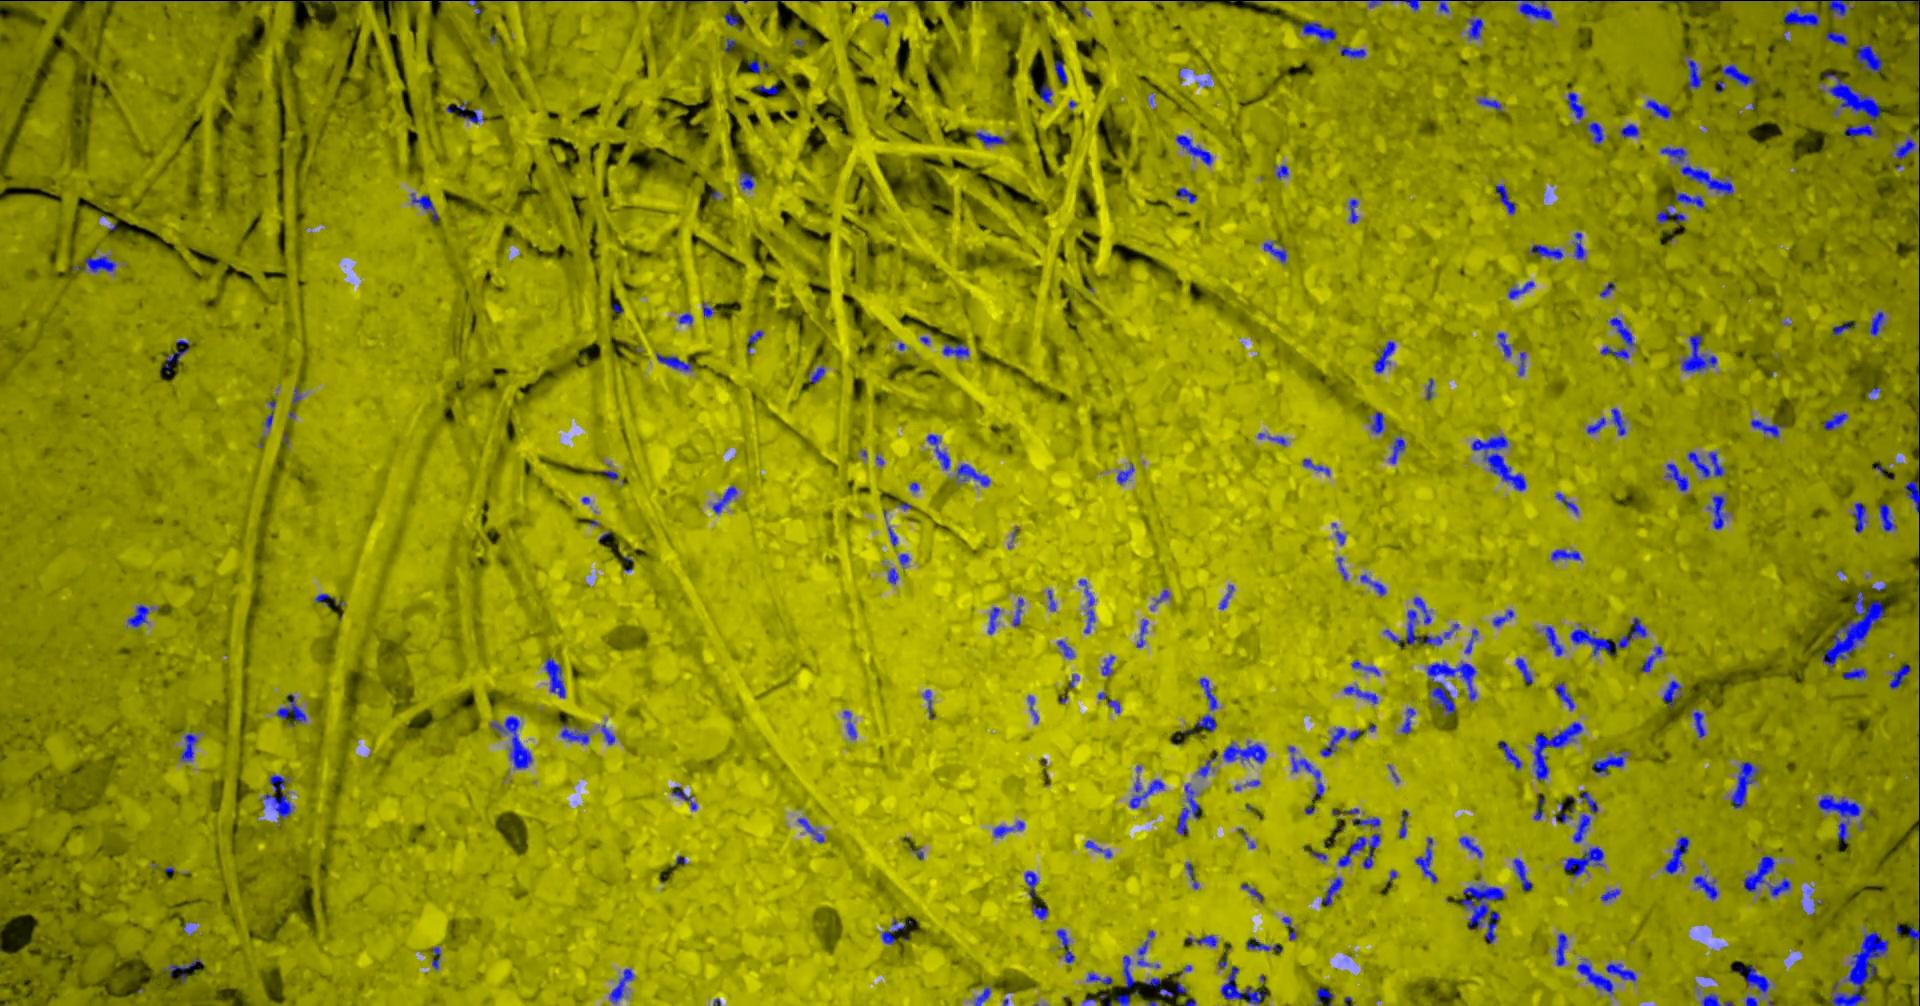ant: (1660, 146, 1733, 196), (1470, 434, 1525, 490), (1531, 721, 1582, 780), (1570, 617, 1646, 655), (1425, 662, 1476, 714), (1823, 72, 1879, 119), (1406, 596, 1458, 644), (490, 715, 532, 768), (1817, 794, 1860, 843), (1743, 855, 1790, 895), (1288, 746, 1323, 796), (1220, 967, 1263, 1005), (1337, 833, 1380, 868), (1600, 318, 1636, 358), (263, 774, 293, 819), (1730, 761, 1757, 808), (1681, 334, 1716, 372), (1572, 791, 1597, 842), (1576, 958, 1611, 993), (1175, 782, 1199, 835), (1563, 846, 1603, 876), (1319, 727, 1359, 756), (1129, 777, 1164, 808), (1733, 965, 1769, 996), (1175, 135, 1211, 164), (163, 958, 203, 983), (1688, 451, 1724, 478), (1663, 836, 1689, 874), (1222, 741, 1266, 762), (1415, 837, 1436, 882), (1078, 579, 1095, 633), (543, 657, 565, 697), (276, 694, 306, 721), (610, 968, 632, 1005), (1719, 64, 1757, 85), (1855, 43, 1883, 72), (164, 339, 188, 372), (1302, 22, 1336, 44), (926, 434, 949, 469), (1591, 751, 1625, 774), (410, 193, 438, 221), (956, 464, 989, 486), (1516, 0, 1552, 20), (1373, 340, 1394, 373), (1497, 741, 1521, 770), (655, 352, 692, 371), (71, 255, 116, 271), (1750, 418, 1785, 437), (797, 817, 824, 842), (712, 485, 737, 513), (1782, 9, 1818, 27), (1665, 464, 1688, 492), (1321, 876, 1342, 906), (1197, 677, 1217, 710), (1512, 857, 1531, 890), (1542, 625, 1562, 655), (670, 786, 696, 810), (1693, 875, 1718, 899), (1057, 929, 1074, 963), (1843, 122, 1879, 138), (1707, 495, 1724, 528), (1639, 645, 1662, 671), (1495, 185, 1515, 213), (1554, 682, 1575, 710), (560, 723, 588, 743), (127, 605, 151, 627), (1343, 686, 1377, 702), (1815, 0, 1850, 15), (456, 102, 483, 122), (1359, 574, 1385, 594), (1662, 680, 1683, 706), (1196, 751, 1217, 777), (1605, 963, 1636, 981), (1554, 492, 1577, 514), (881, 920, 904, 942), (1644, 99, 1671, 118), (1507, 279, 1534, 298), (1674, 192, 1704, 208), (1903, 480, 1919, 513), (180, 730, 197, 761), (993, 821, 1023, 837), (1246, 937, 1281, 951), (1893, 136, 1915, 159), (1459, 836, 1482, 857), (1890, 664, 1910, 688), (1529, 244, 1563, 258), (1084, 840, 1111, 857), (1655, 208, 1685, 224), (1263, 241, 1286, 262), (1851, 502, 1867, 532), (1567, 91, 1583, 119), (974, 131, 1007, 145), (1302, 459, 1330, 475), (1878, 503, 1895, 531), (1823, 412, 1848, 431), (1388, 437, 1404, 464), (1515, 657, 1531, 683), (1688, 58, 1702, 89), (1123, 955, 1135, 988), (1241, 883, 1262, 902), (1610, 408, 1625, 434), (1351, 661, 1379, 674), (1496, 332, 1511, 357), (1399, 708, 1415, 733), (1186, 934, 1217, 946), (1465, 18, 1483, 39), (1586, 121, 1603, 144), (745, 330, 762, 353), (1476, 97, 1502, 111), (1691, 710, 1705, 737), (1023, 870, 1037, 897), (1869, 311, 1884, 335), (1218, 584, 1233, 608), (1556, 934, 1567, 965), (1492, 608, 1512, 626), (1195, 714, 1217, 730), (942, 343, 968, 357), (1257, 432, 1285, 445), (843, 710, 856, 738), (1832, 320, 1855, 335), (1281, 916, 1297, 939), (1702, 993, 1732, 1005), (1053, 58, 1065, 85), (1116, 464, 1134, 483), (987, 607, 999, 634), (1057, 639, 1074, 658), (1550, 549, 1580, 560), (1012, 597, 1023, 626), (923, 688, 935, 718), (1175, 187, 1196, 202), (1185, 862, 1197, 888), (1137, 940, 1149, 965), (1086, 972, 1111, 984), (1825, 30, 1848, 44), (1573, 231, 1585, 259), (264, 400, 276, 428), (1137, 619, 1148, 647), (973, 987, 990, 1005), (1316, 987, 1333, 1005), (808, 365, 824, 384), (1586, 417, 1605, 433), (1554, 803, 1571, 822), (1464, 629, 1477, 653), (1338, 46, 1365, 57), (1370, 412, 1384, 433), (1907, 923, 1919, 949), (1619, 123, 1639, 137), (601, 724, 615, 744), (1398, 809, 1408, 837), (1533, 796, 1544, 821), (1331, 522, 1343, 544), (1031, 903, 1048, 920), (1027, 695, 1037, 721), (723, 11, 742, 25), (1843, 668, 1865, 680), (1393, 0, 1418, 10), (748, 60, 768, 72), (1039, 83, 1051, 103), (1599, 281, 1614, 297), (739, 171, 753, 189), (1352, 817, 1380, 826), (756, 84, 777, 95), (1101, 655, 1114, 674), (1600, 888, 1619, 901), (315, 593, 335, 605), (872, 11, 889, 25), (1349, 199, 1357, 224), (430, 946, 439, 969), (1517, 351, 1525, 375), (1275, 164, 1288, 178), (702, 302, 714, 318), (677, 312, 692, 324), (888, 567, 898, 583), (1854, 0, 1919, 3), (1107, 699, 1119, 713), (1425, 379, 1432, 399), (1116, 993, 1129, 1005), (1745, 995, 1757, 1005), (1437, 0, 1448, 11), (1662, 0, 1722, 1), (301, 0, 359, 1)
